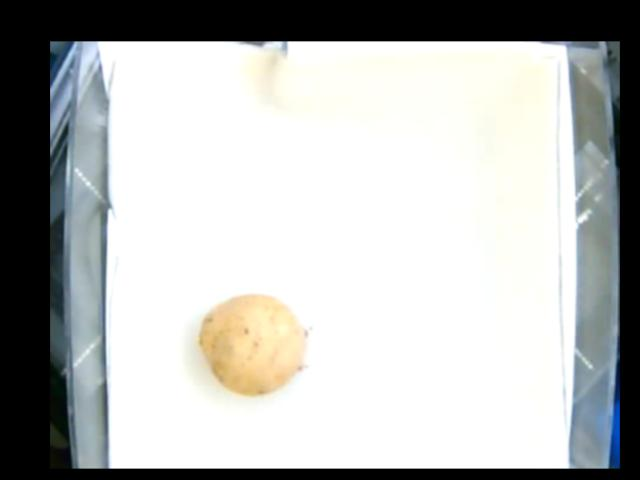Potato: (201, 291, 308, 397)
